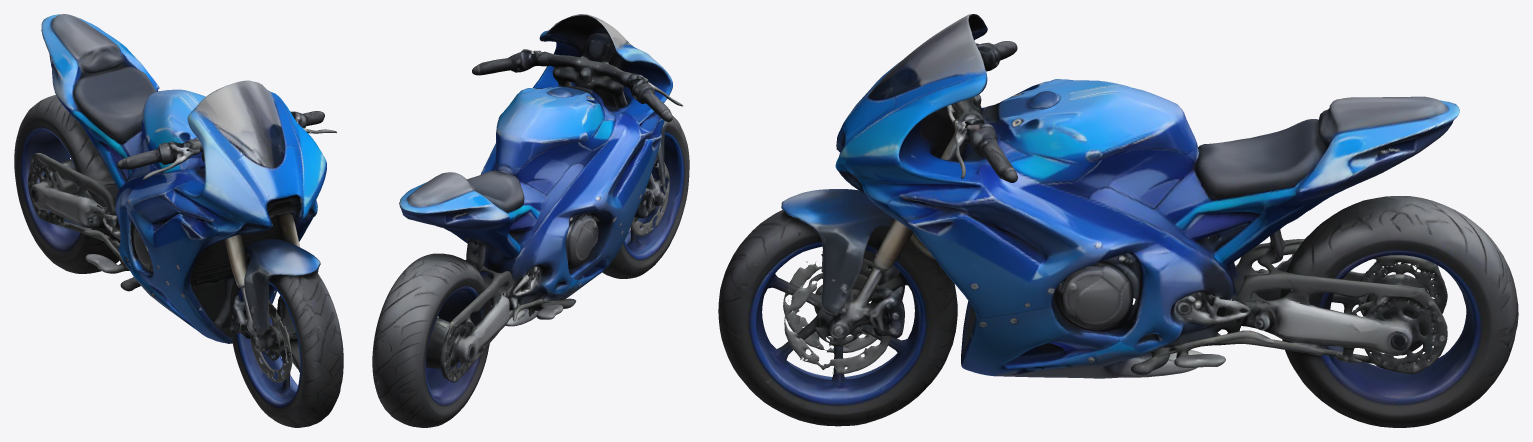
File: bike_paid3.glb
3 views of the same model, side by side, from view 1: azimuth 30°, elevation 25°; view 2: azimuth 150°, elevation 25°; view 3: azimuth 270°, elevation 25° (orthographic). The views are drawn at different scales.
Visible parts, largest first — view 1: tripo_node_b3b3dff0; view 2: tripo_node_b3b3dff0; view 3: tripo_node_b3b3dff0.
Boxes of the visible parts, <box> form: tripo_node_b3b3dff0: <box>14,14,343,427</box>; tripo_node_b3b3dff0: <box>372,14,689,427</box>; tripo_node_b3b3dff0: <box>718,14,1518,427</box>.
Bounding box in the file's own units: 0.8349 × 1.17 × 2.1.
Materials: 1 (1 with a texture image).
